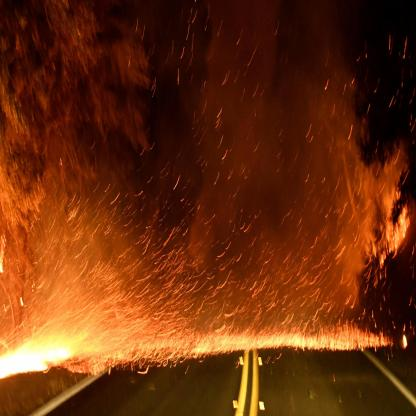fire: (1, 151, 412, 383)
